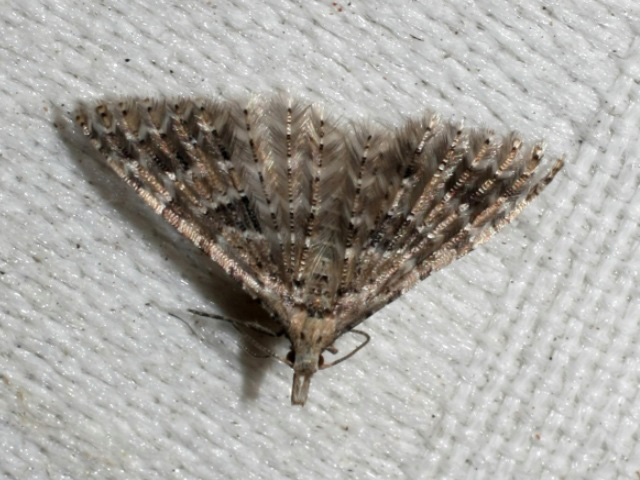Alucitidae: (61, 81, 570, 411)
moth: (63, 83, 572, 413)
